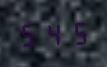five: (18, 21, 40, 47), (65, 19, 87, 45)
four: (42, 20, 64, 46)
